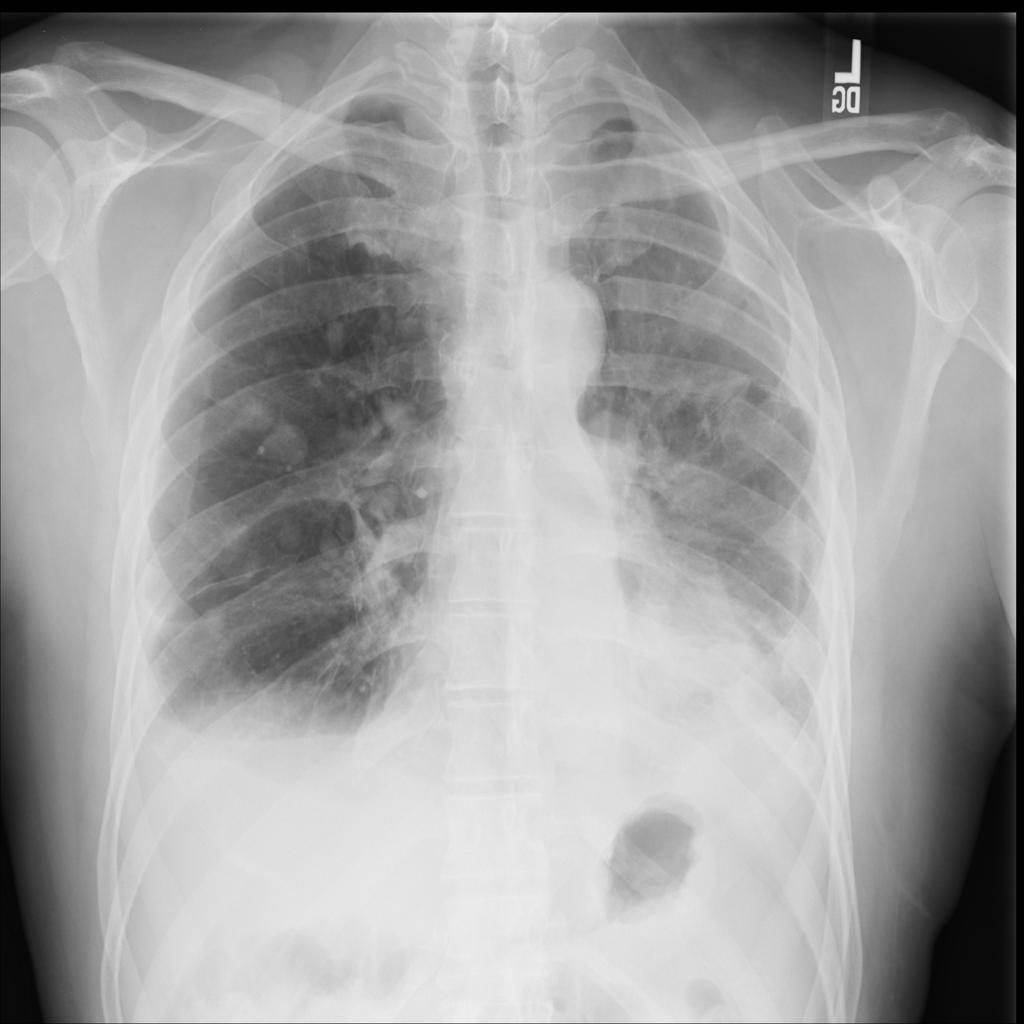nodule: (218, 370, 288, 438), (203, 503, 270, 570), (258, 412, 320, 479), (249, 325, 302, 375), (186, 594, 239, 644), (268, 510, 317, 562), (273, 215, 319, 270), (312, 304, 355, 362)
